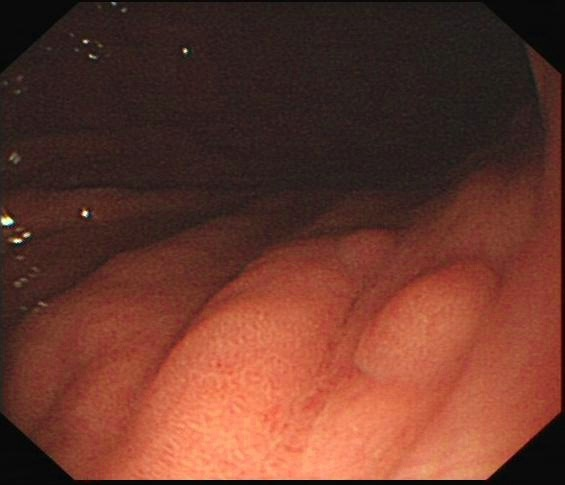Polyp: (349, 258, 501, 388)
